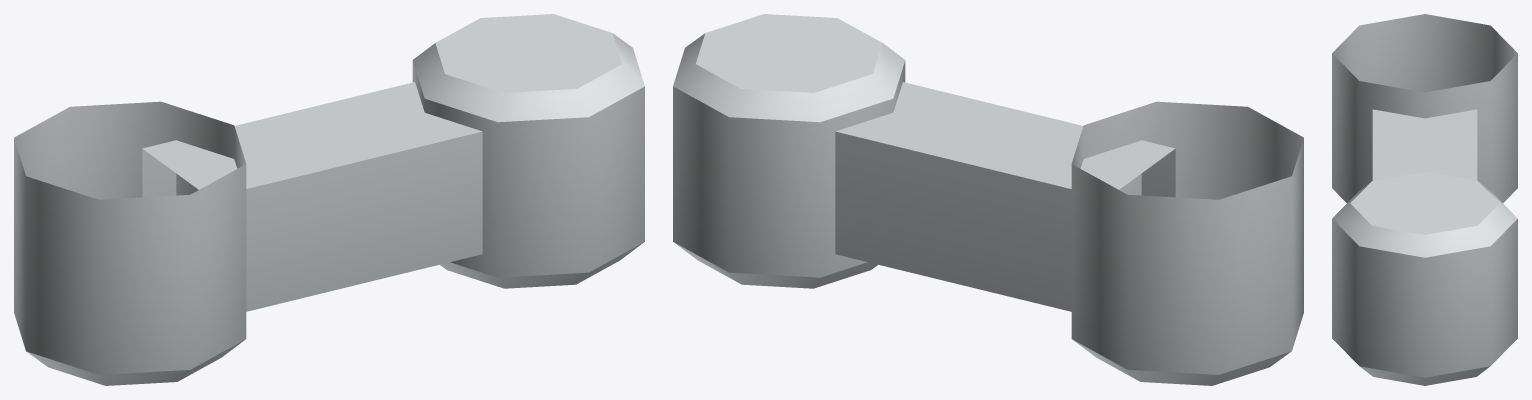
The model's file is Support_002.fbx.
3 views of the same model, side by side, from view 1: azimuth 30°, elevation 25°; view 2: azimuth 150°, elevation 25°; view 3: azimuth 270°, elevation 25° (orthographic). The views are drawn at different scales.
Visible parts, largest first — view 1: Support_002; view 2: Support_002; view 3: Support_002.
Boxes of the visible parts, left/top/right/bottom form: Support_002: left=14, top=14, right=644, bottom=385; Support_002: left=673, top=14, right=1303, bottom=385; Support_002: left=1332, top=14, right=1517, bottom=385.
Bounding box in the file's own units: 37.11 × 12.74 × 11.49.
